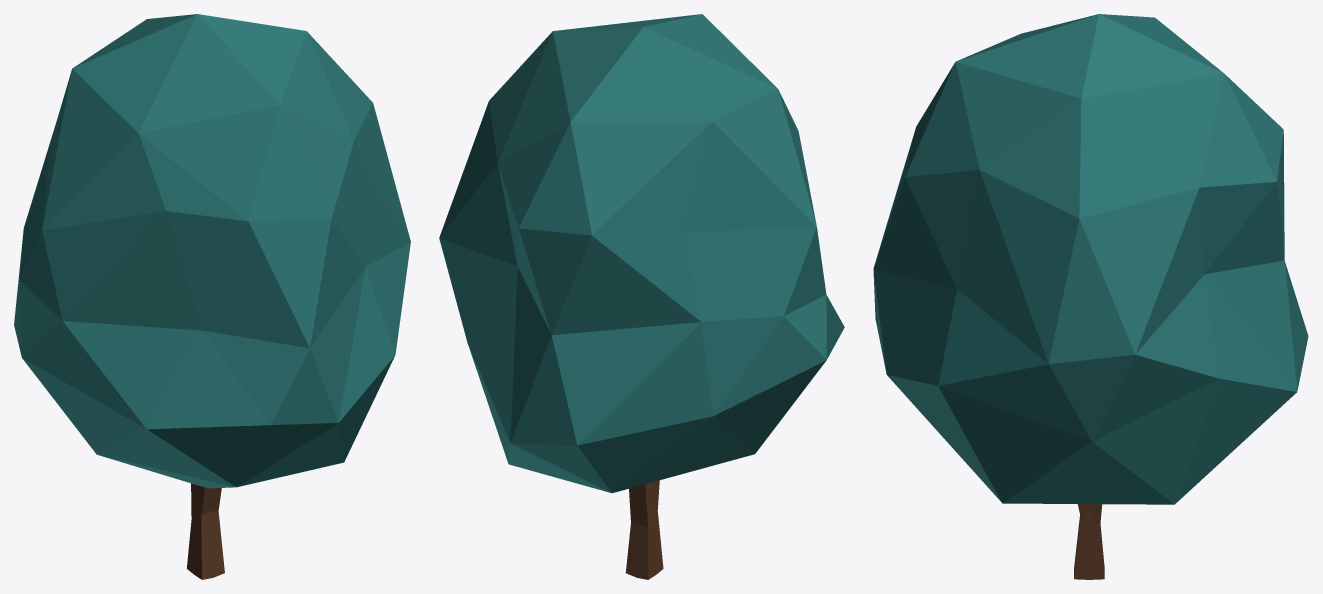
The model's file is Tree_2_Blue.fbx.
3 renders of one model, left to right at view 1: azimuth 30°, elevation 25°; view 2: azimuth 150°, elevation 25°; view 3: azimuth 270°, elevation 25°, orthographic.
Visible parts, largest first — view 1: Tree_2_Blue_Part_1, Tree_2_Blue_Part_2; view 2: Tree_2_Blue_Part_1, Tree_2_Blue_Part_2; view 3: Tree_2_Blue_Part_1, Tree_2_Blue_Part_2.
Part boxes in pixels (x1,y1,x2,y2): Tree_2_Blue_Part_1: (14,14,410,488); Tree_2_Blue_Part_2: (187,483,224,579); Tree_2_Blue_Part_1: (439,14,844,493); Tree_2_Blue_Part_2: (625,480,663,579); Tree_2_Blue_Part_1: (873,14,1308,504); Tree_2_Blue_Part_2: (1074,504,1104,579).
Bounding box in the file's own units: 550 × 792 × 557.
